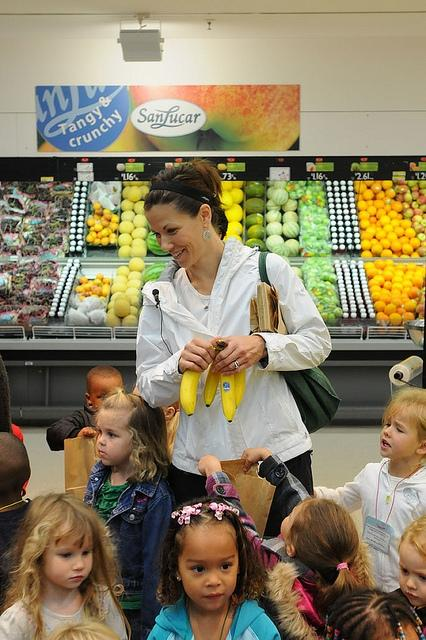banana: (180, 346, 216, 416), (216, 339, 246, 408), (220, 373, 237, 422), (204, 362, 220, 408)
orange: (404, 299, 417, 313), (389, 312, 402, 326), (370, 243, 384, 255), (402, 243, 414, 256), (384, 304, 397, 316), (380, 180, 394, 191), (393, 226, 405, 238), (408, 286, 420, 298), (390, 240, 402, 252), (377, 314, 389, 326), (404, 227, 416, 239), (358, 218, 370, 230), (412, 276, 424, 288), (392, 282, 404, 294), (376, 208, 388, 220), (358, 210, 370, 222), (373, 301, 386, 312), (366, 206, 378, 217), (362, 189, 374, 200), (395, 262, 407, 273), (384, 188, 396, 199), (370, 183, 382, 194), (355, 183, 367, 194), (370, 291, 381, 303), (368, 279, 381, 289), (373, 276, 386, 286), (357, 200, 368, 211), (361, 231, 373, 241), (374, 260, 386, 270), (366, 268, 378, 278), (410, 237, 420, 249), (360, 240, 372, 250), (379, 238, 391, 248), (400, 220, 412, 230), (366, 226, 376, 238), (401, 312, 414, 321), (392, 202, 403, 212), (387, 232, 398, 242), (374, 200, 385, 210), (375, 230, 386, 240), (391, 299, 403, 308), (402, 280, 414, 289), (391, 218, 400, 230), (362, 180, 375, 188), (384, 224, 394, 234), (382, 281, 392, 291), (384, 271, 394, 281), (380, 216, 390, 226), (375, 191, 386, 200), (414, 266, 426, 274), (369, 286, 381, 294), (412, 271, 424, 279), (383, 265, 395, 273), (360, 250, 373, 257), (382, 197, 392, 206), (388, 210, 398, 219), (92, 287, 102, 296), (381, 249, 392, 257), (392, 276, 403, 284), (403, 273, 414, 281), (396, 308, 406, 316), (364, 262, 374, 270), (400, 236, 408, 246), (391, 288, 401, 296), (384, 204, 392, 214), (356, 194, 366, 202), (385, 259, 394, 267), (395, 270, 404, 278), (370, 238, 379, 246), (369, 216, 377, 224), (374, 226, 382, 234), (412, 264, 420, 272), (366, 200, 374, 208), (381, 288, 390, 295), (402, 287, 411, 294), (354, 180, 364, 186), (411, 252, 420, 258), (374, 180, 382, 186), (402, 298, 410, 304), (394, 250, 402, 256), (399, 254, 410, 258), (398, 213, 402, 220), (393, 254, 399, 257)
watermelon: (146, 232, 170, 256), (144, 263, 167, 285), (282, 220, 300, 238), (272, 188, 288, 206), (285, 239, 300, 257), (266, 221, 282, 237), (272, 242, 290, 256), (283, 198, 298, 212), (266, 198, 281, 212), (266, 210, 282, 223), (282, 211, 298, 223), (292, 267, 304, 279), (274, 180, 288, 190), (266, 186, 274, 200), (267, 181, 275, 187)
